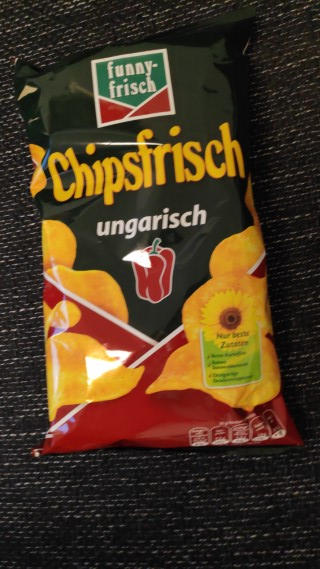chipsfrisch: (11, 13, 301, 454)
